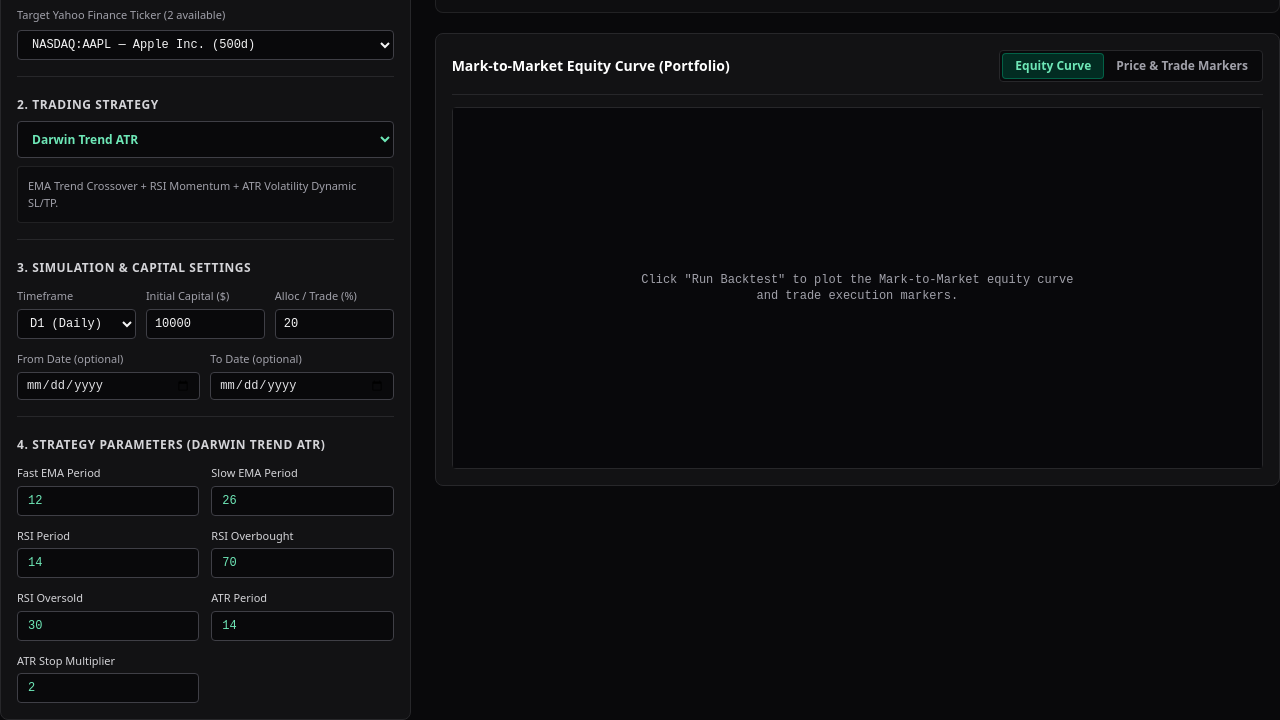
Test case: StrategyLifecycleWorkspace › loads Yahoo tickers, switches strategies, edits parameters, and resets to defaults
(page scrolled)
Check: the dropdown with test id "strategy-single-ticker-select" shows "NASDAQ:AAPL — Apple Inc. (500d)", box [17,30,394,60]
# Edit Fast EMA and Initial Balance
Replace the text in the number field with test id "strategy-param-fast_ema_period" with "15": (108,501) [17,486,199,516]
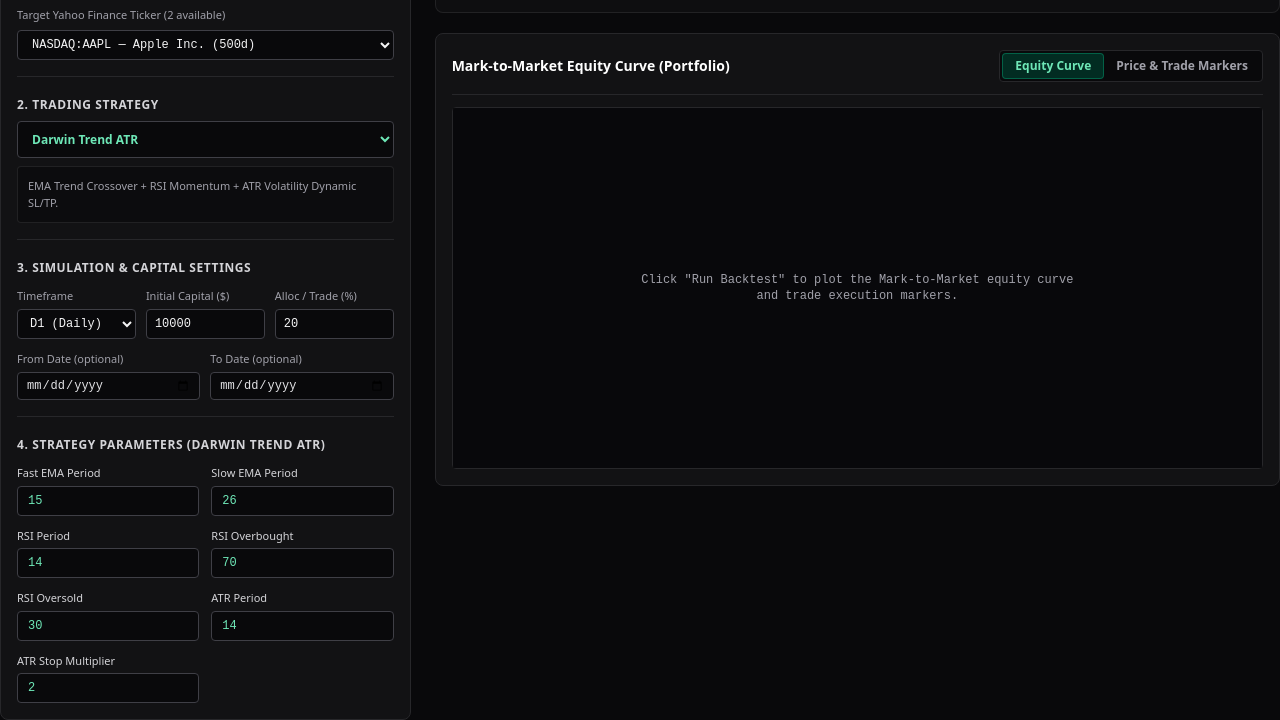
Replace the text in the number field with test id "param-initial_balance" with "25000": (205,324) [146,309,265,339]
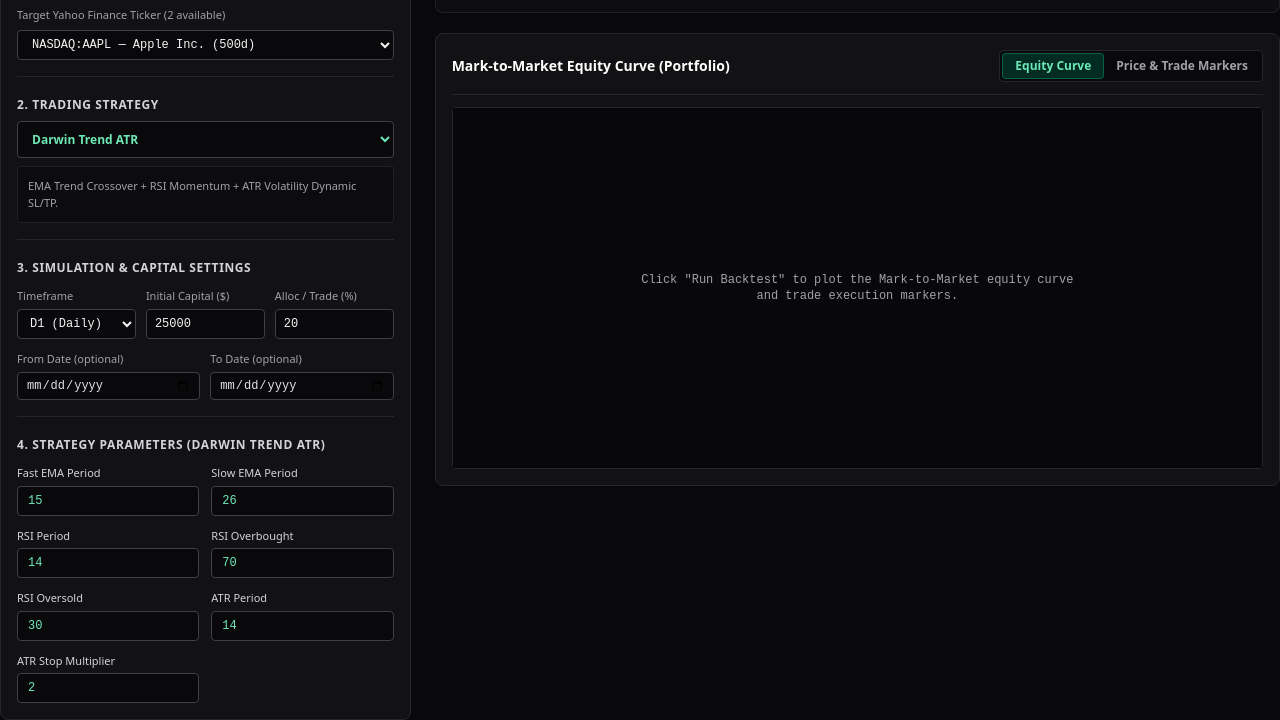
# Switch strategy to DarwinX Zero Trader
Select "DarwinX Zero Trader" in the dropdown with test id "strategy-selector": (205,139) [17,120,394,158]
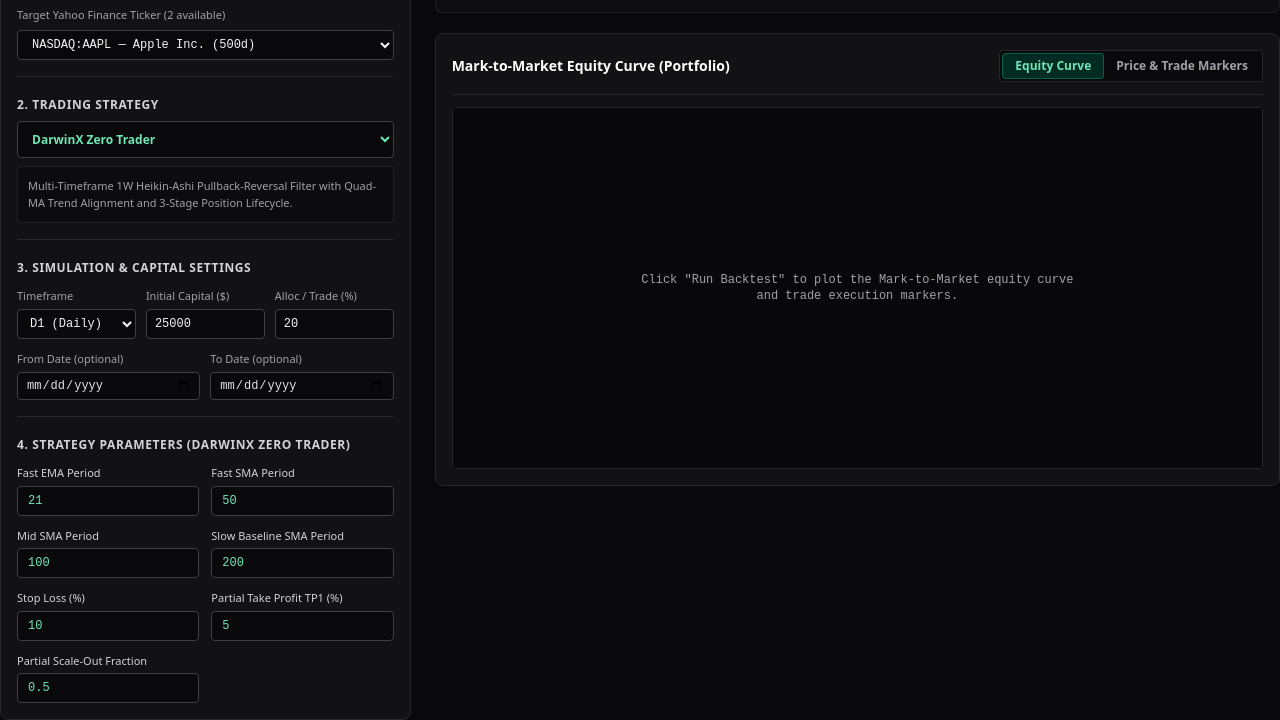
Check: the number field with test id "strategy-param-stop_loss_pct" holds "10"
Replace the text in the number field with test id "strategy-param-stop_loss_pct" with "14": (108,626) [17,611,199,641]
(page scrolled)
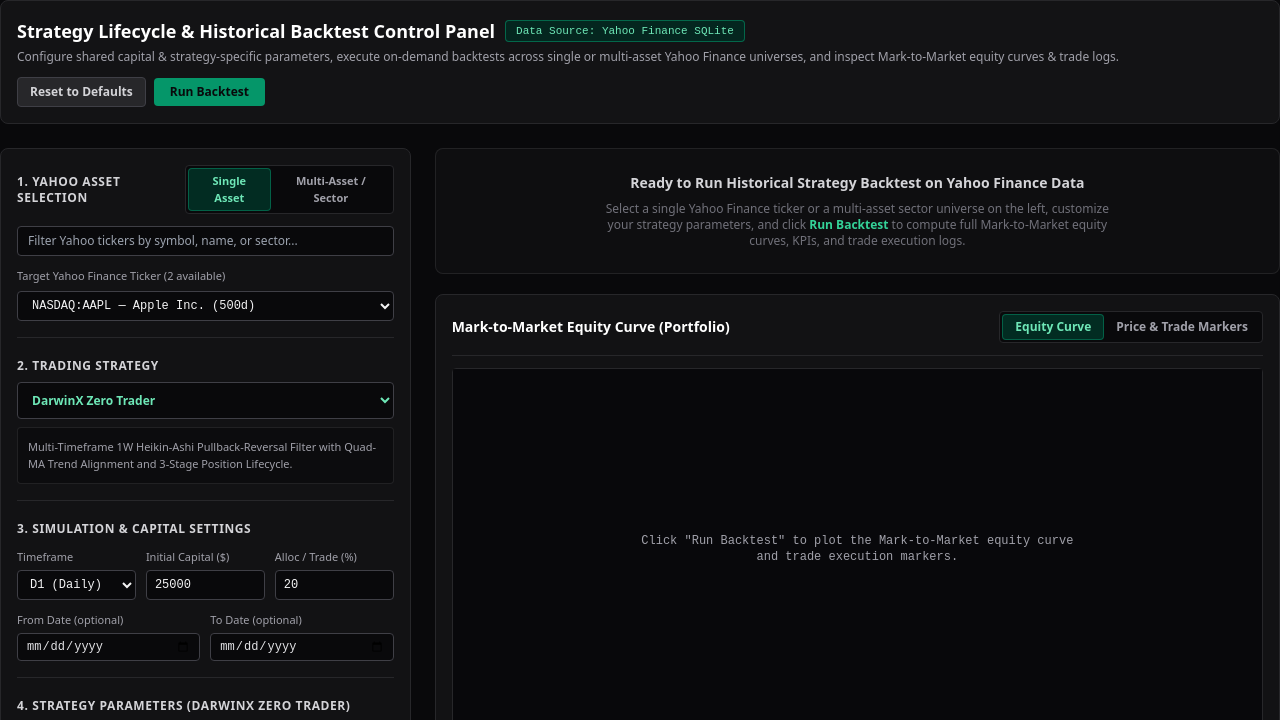
# Click Reset to Defaults
Click the button with test id "strategy-reset-defaults-btn": (81,92) [17,77,146,107]
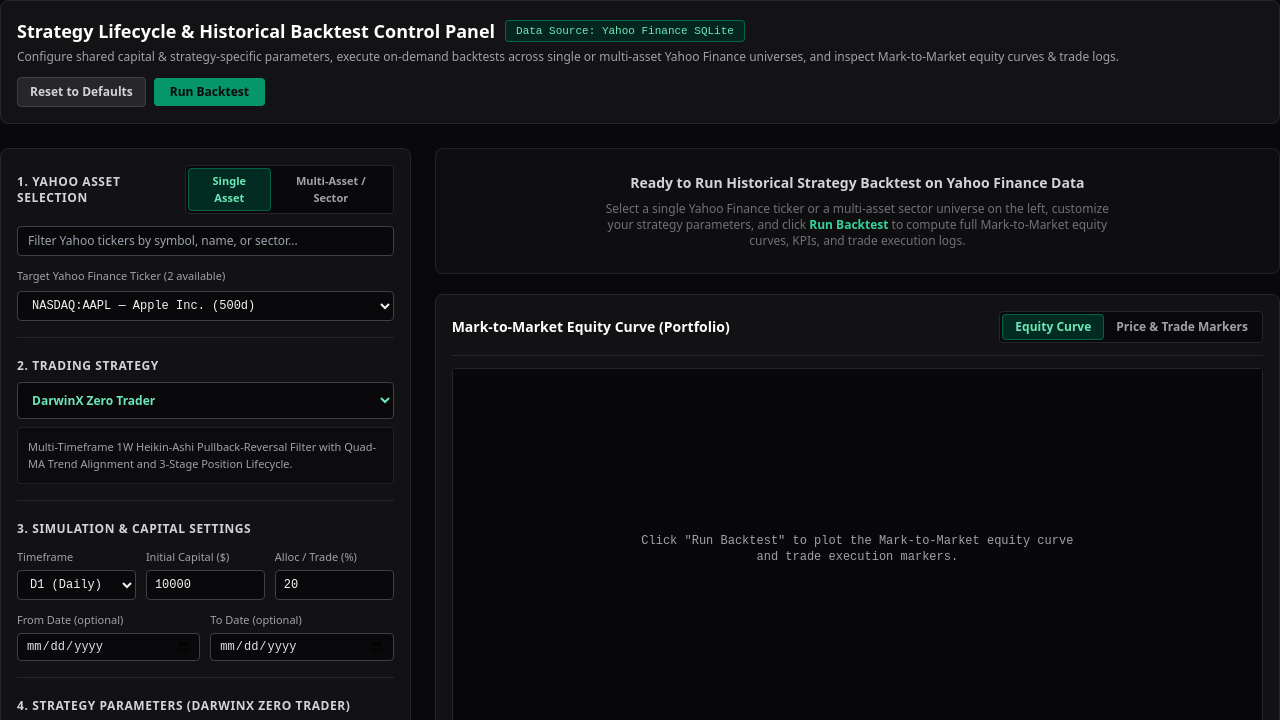
Check: the number field with test id "param-initial_balance" holds "10000", box [146,570,265,600]
